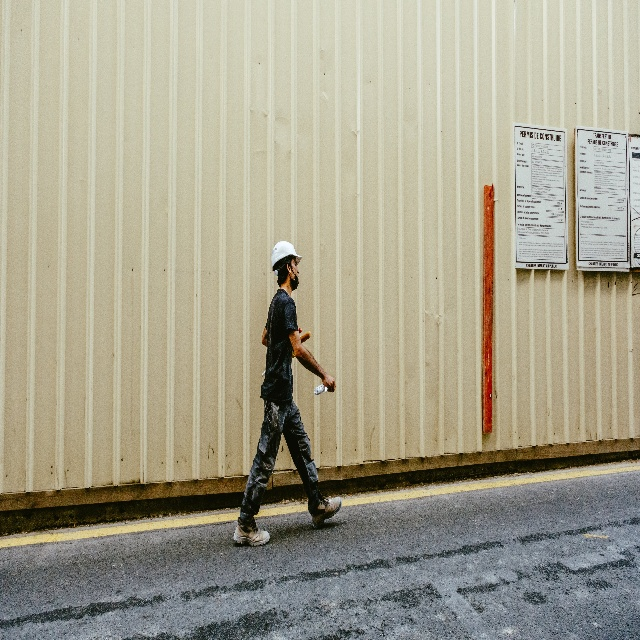Mascara: (288, 268, 299, 292)
Sin_guantes: (322, 374, 336, 393)
